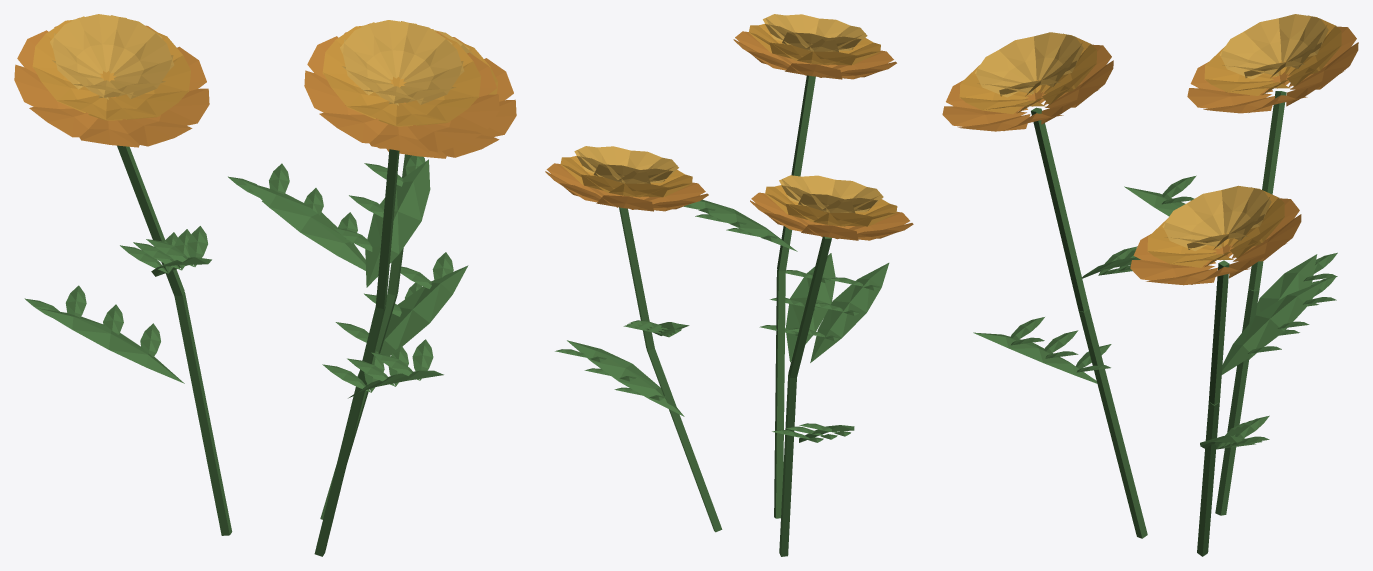
Rendered from flower_summer_b.glb.
3 views of the same model, side by side, from view 1: azimuth 30°, elevation 25°; view 2: azimuth 150°, elevation 25°; view 3: azimuth 270°, elevation 25° (orthographic). The views are drawn at different scales.
Parts seen in each view (by area): view 1: plant; view 2: plant; view 3: plant.
Boxes of the visible parts, left/top/right/bottom form: plant: left=14, top=14, right=516, bottom=556; plant: left=545, top=14, right=913, bottom=556; plant: left=942, top=14, right=1358, bottom=556.
Size of the model in its own units: 0.2622 by 0.31 by 0.2334.
